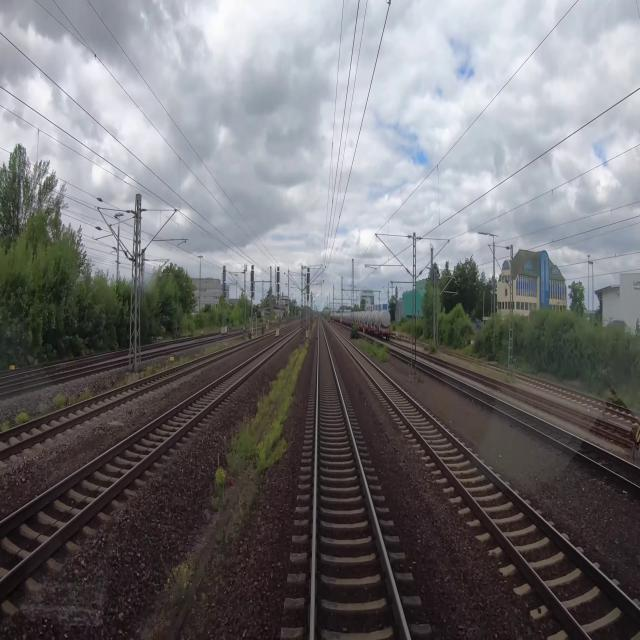Plant: (226, 341, 311, 481), (210, 481, 262, 592), (136, 557, 196, 639), (210, 467, 229, 512), (366, 342, 391, 362), (203, 340, 229, 354), (607, 389, 626, 407), (15, 410, 31, 424), (145, 363, 162, 375), (76, 388, 89, 401), (0, 419, 12, 432), (503, 373, 516, 384), (54, 393, 64, 407), (350, 324, 359, 339), (428, 341, 436, 354), (179, 356, 189, 364), (327, 316, 330, 322), (252, 333, 255, 337)
